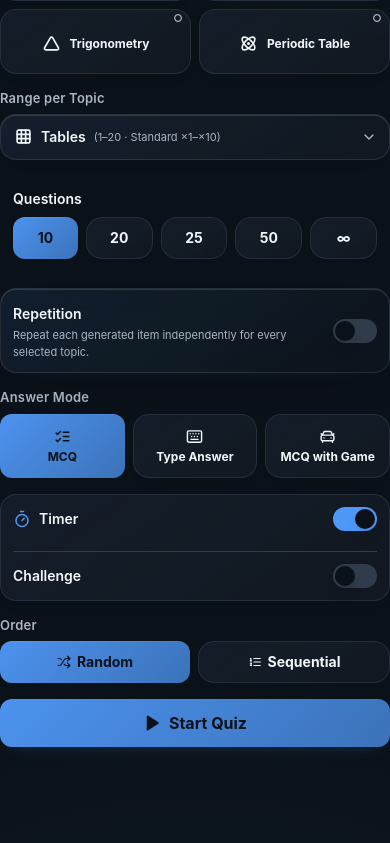
Quiz Arena MCQ with Game mode › cancels game selection without starting a quiz
(page scrolled)
Click the button "MCQ with Game".
click(328, 446)  # box 265,414 -> 389,478
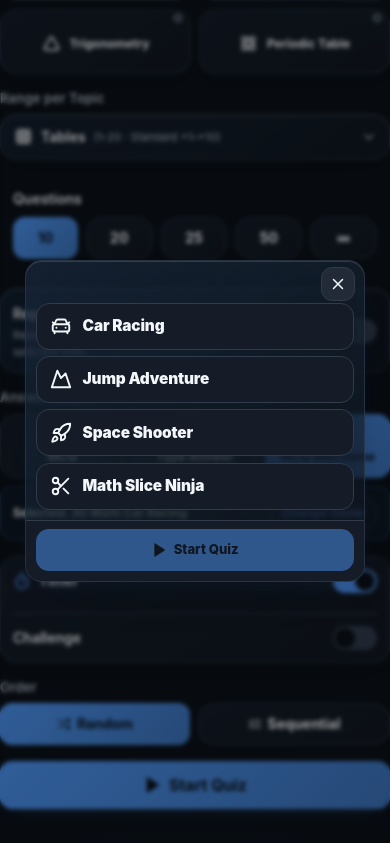
Check: the button with test id "start-selected-game" is disabled, box 36,529 -> 354,571
Click the button named "Cancel game selection".
click(338, 284)  # box 321,266 -> 355,301
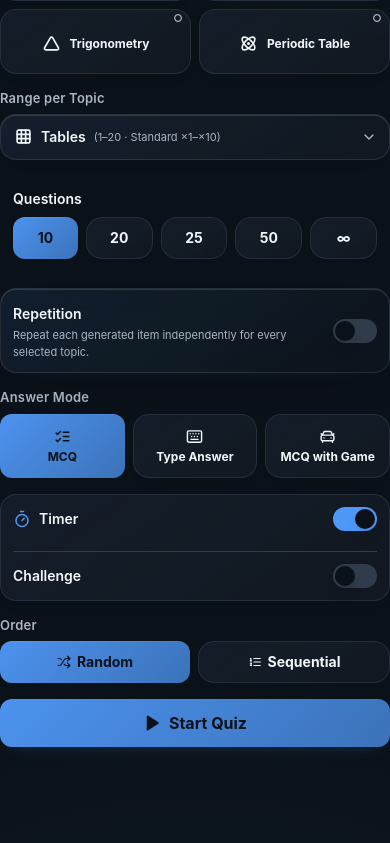
Check: the element with test id "mcq-game-selector" is gone
